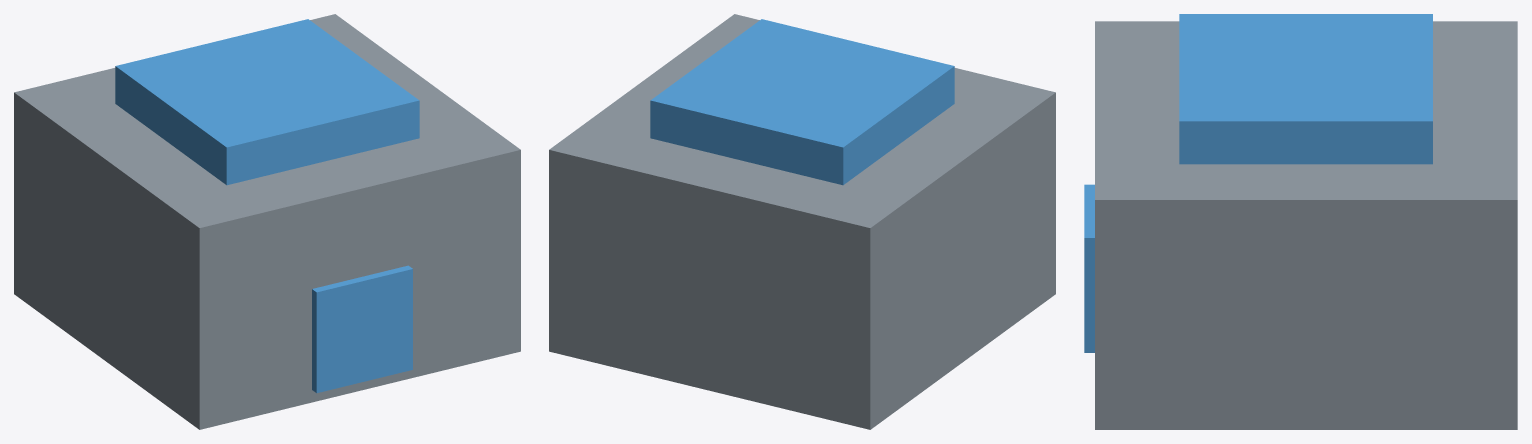
File: AL_GunTurret_LOD0.glb
3 views of the same model, side by side, from view 1: azimuth 30°, elevation 25°; view 2: azimuth 150°, elevation 25°; view 3: azimuth 270°, elevation 25° (orthographic). The views are drawn at different scales.
Visible parts, largest first — view 1: EntranceGate; view 2: EntranceGate; view 3: EntranceGate.
Boxes of the visible parts, bbox=[...] form: EntranceGate: bbox=[14, 14, 520, 429]; EntranceGate: bbox=[549, 14, 1055, 429]; EntranceGate: bbox=[1084, 14, 1517, 429].
Bounding box in the file's own units: 400 × 285 × 410.
